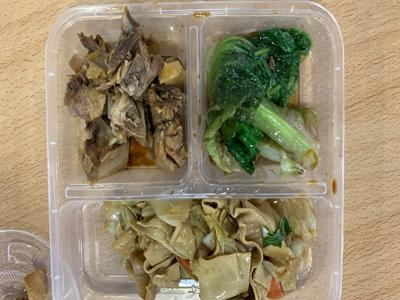gdf: (90, 200, 342, 297)
ymc: (199, 18, 333, 176)
